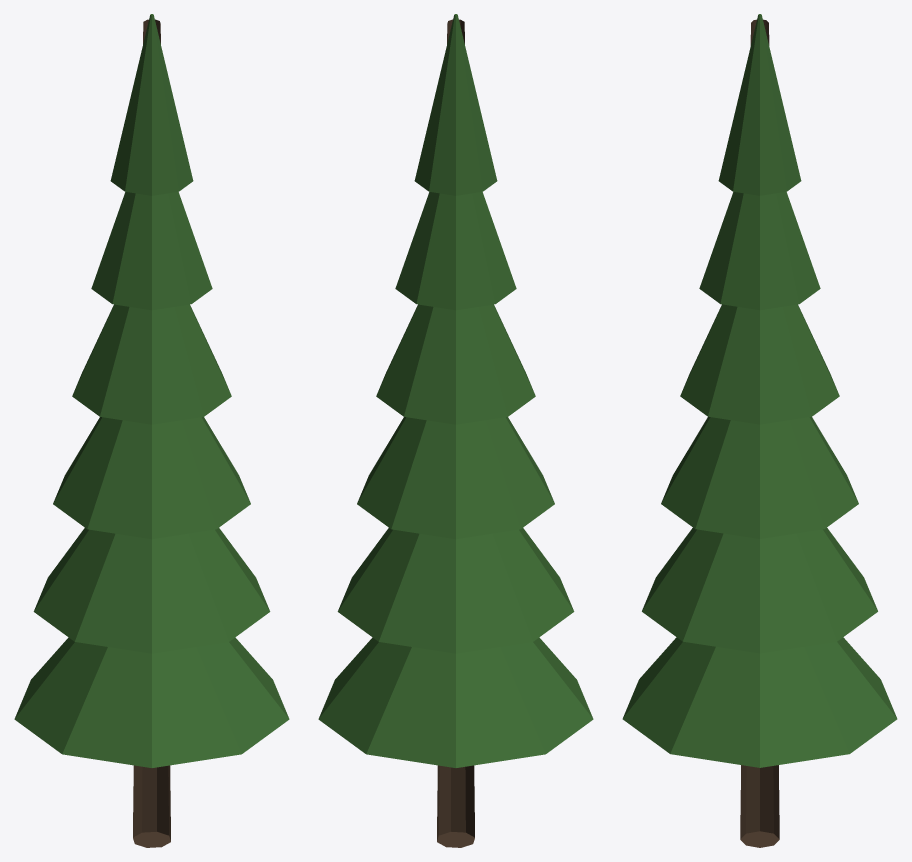
Rendered from tree-conifer-1.glb.
3 views of the same model, side by side, from view 1: azimuth 30°, elevation 25°; view 2: azimuth 150°, elevation 25°; view 3: azimuth 270°, elevation 25° (orthographic).
Visible parts, largest first — view 1: tree-conifer-1; view 2: tree-conifer-1; view 3: tree-conifer-1.
Part boxes in pixels (x1,y1,x2,y2): tree-conifer-1: (14,14,289,847); tree-conifer-1: (318,14,593,847); tree-conifer-1: (622,14,897,847).
Size of the model in its own units: 3.01 by 10.1 by 3.05.
